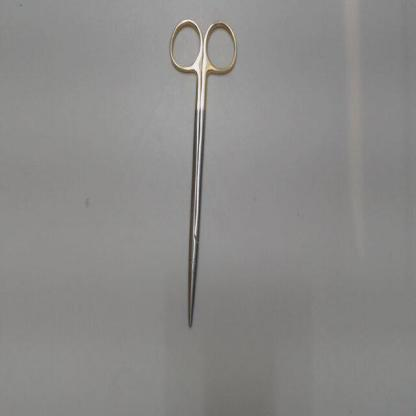7 Metzenbaum Scissors: (165, 14, 241, 334)
